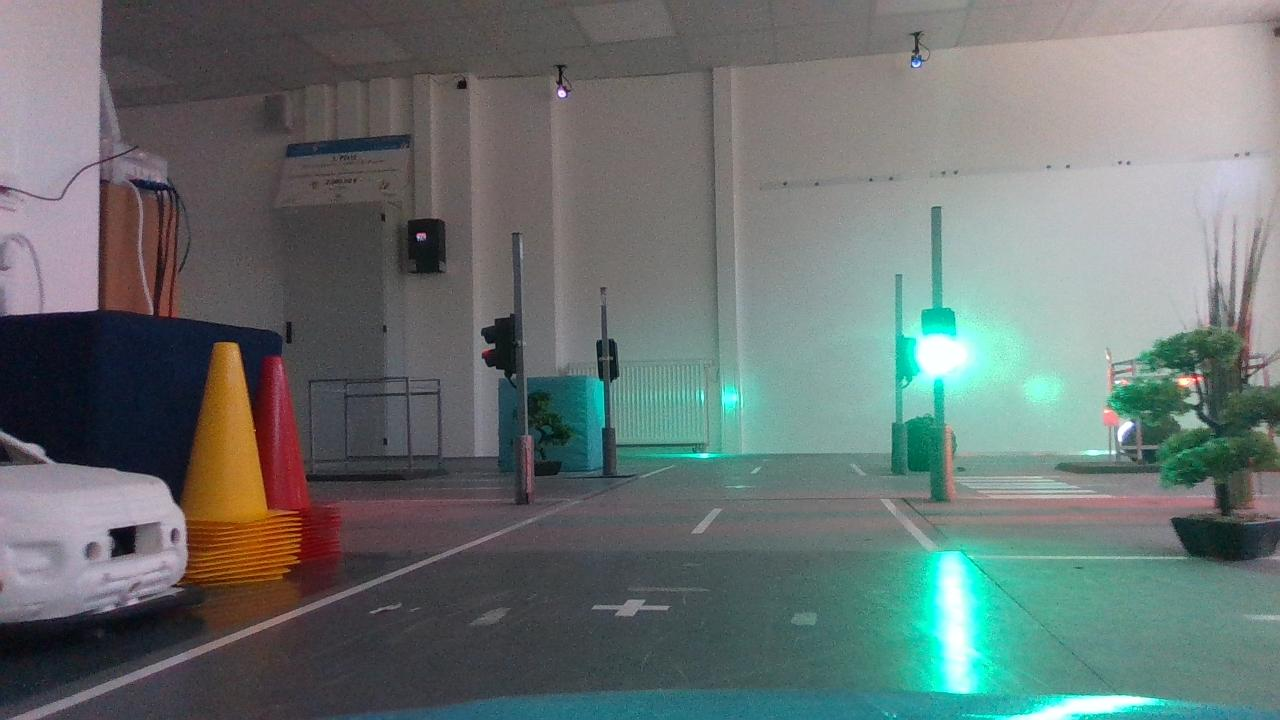traffic_light_green: (911, 296, 974, 393)
